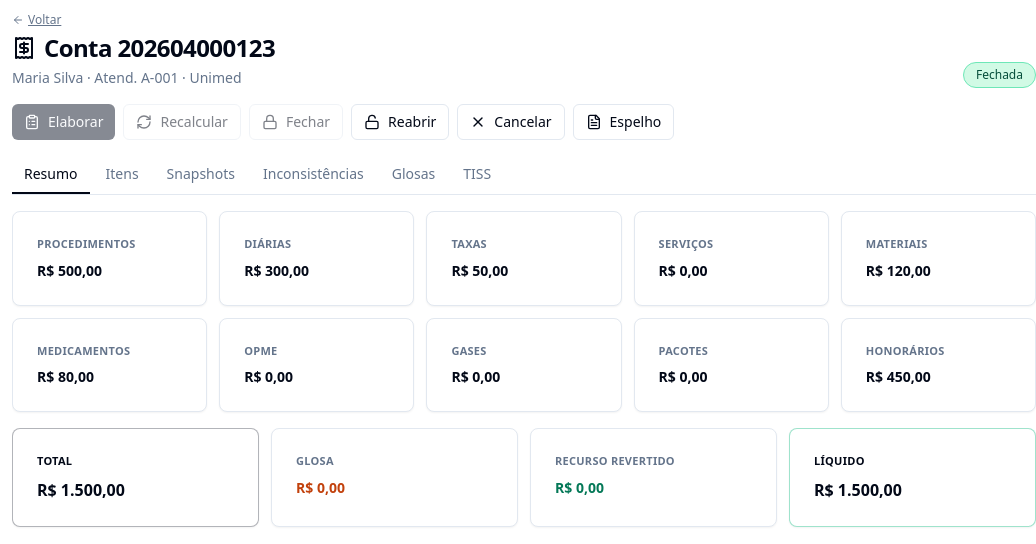
it: <ContaDetalhePage /> › em FECHADA, Reabrir habilita; Fechar desabilita; tab TISS mostra "Gerar Guias TISS" habilitado
Check: the heading "Conta 202604000123" is shown, box [12, 32, 275, 64]
Check: the button "Reabrir" is enabled, box [351, 104, 449, 140]
Step 1. Click the tab "TISS" → (477, 175), box [451, 156, 503, 194]
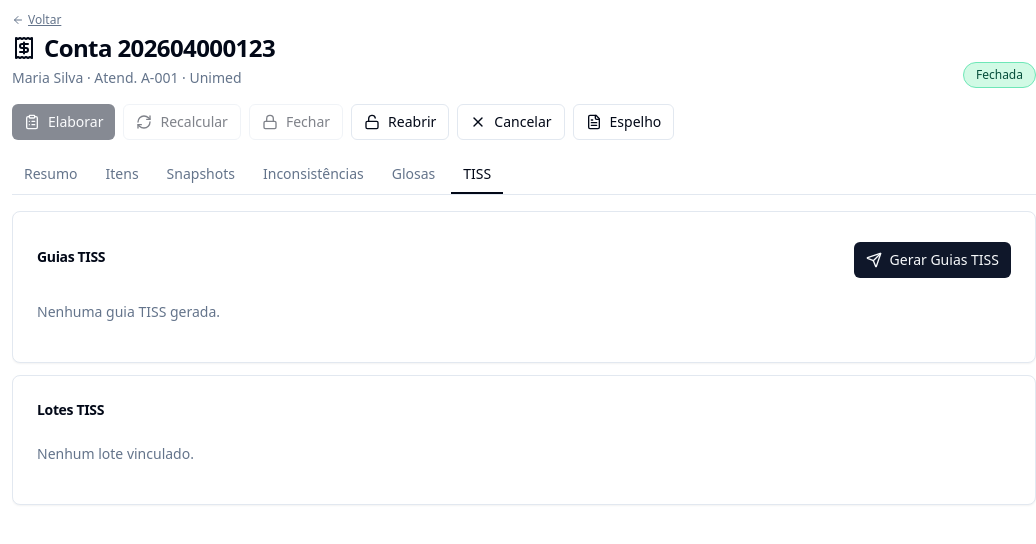
Check: the button "Gerar Guias TISS" is enabled, box [854, 242, 1011, 278]
